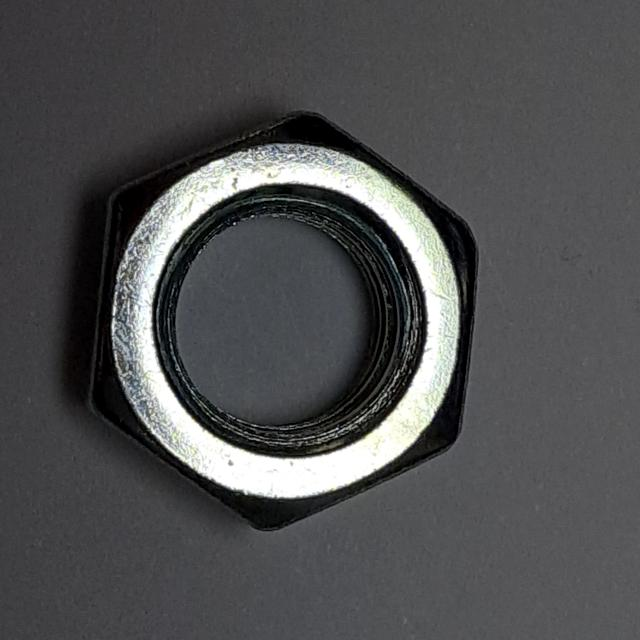Excellent: (81, 92, 486, 547)
